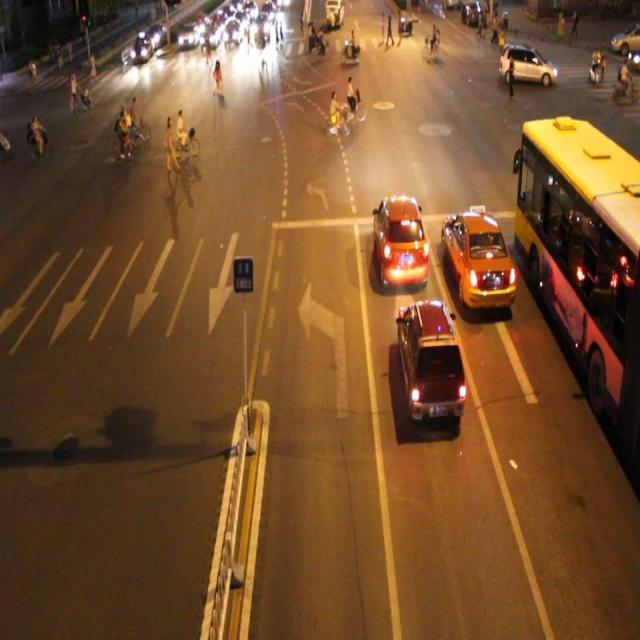car: (395, 297, 466, 422), (440, 204, 518, 308), (373, 192, 429, 288)
van: (515, 117, 640, 460)
